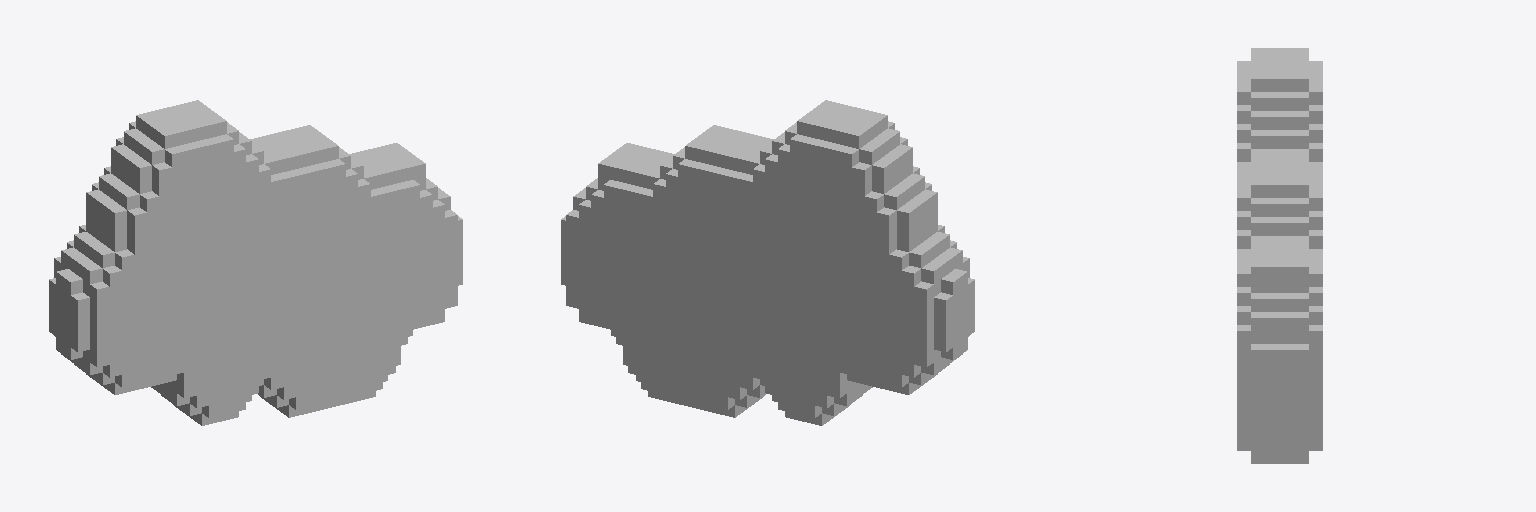
The model's file is Cloud.obj.
3 renders of one model, left to right at view 1: azimuth 30°, elevation 25°; view 2: azimuth 150°, elevation 25°; view 3: azimuth 270°, elevation 25°, orthographic.
Visible parts, largest first — view 1: Cloud; view 2: Cloud; view 3: Cloud.
Part boxes in pixels (bbox=[...]): Cloud: bbox=[49, 100, 462, 425]; Cloud: bbox=[561, 100, 974, 425]; Cloud: bbox=[1237, 48, 1322, 463].
Size of the model in its own units: 3.1 by 2.4 by 0.6.